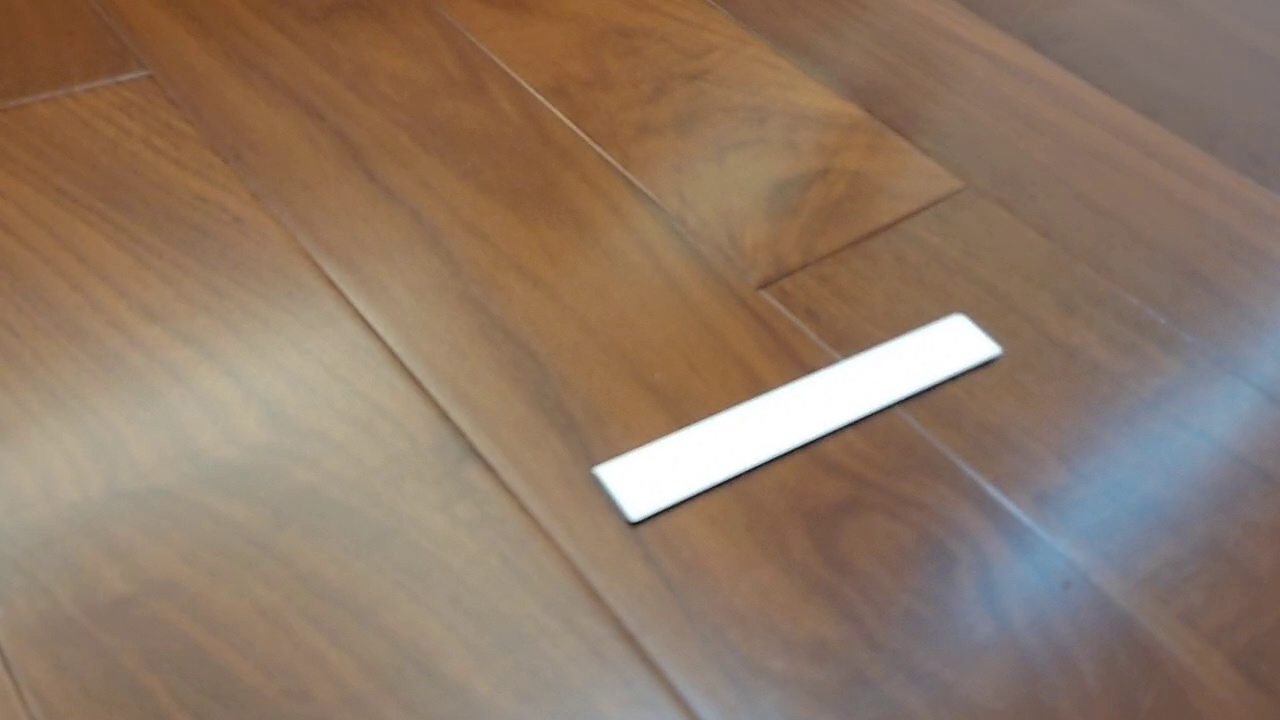ruler: (590, 310, 1005, 528)
